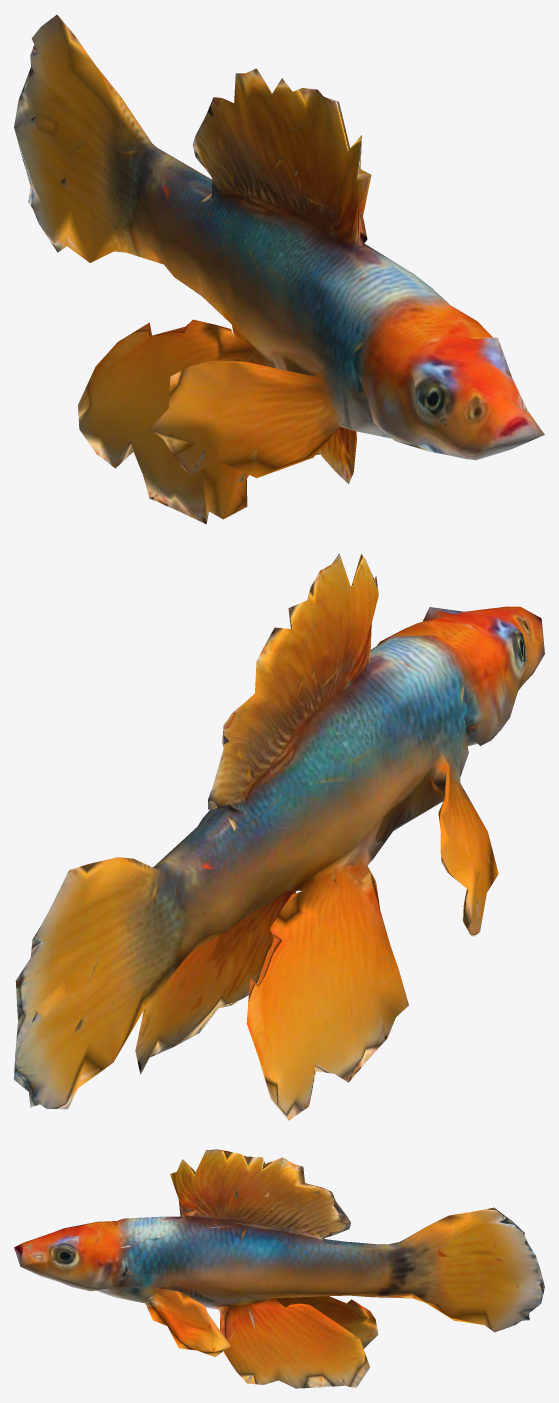
Rendered from fish_guppy.glb.
3 renders of one model, top to bottom at view 1: azimuth 30°, elevation 25°; view 2: azimuth 150°, elevation 25°; view 3: azimuth 270°, elevation 25°, orthographic. The views are drawn at different scales.
Parts seen in each view (by area): view 1: fish_guppy; view 2: fish_guppy; view 3: fish_guppy.
Part boxes in pixels (<box>): fish_guppy: <box>14,14,544,524</box>; fish_guppy: <box>14,553,544,1120</box>; fish_guppy: <box>14,1149,544,1388</box>.
Bounding box in the file's own units: 0.3348 × 0.4726 × 0.9932.
1 material, 1 textured.
